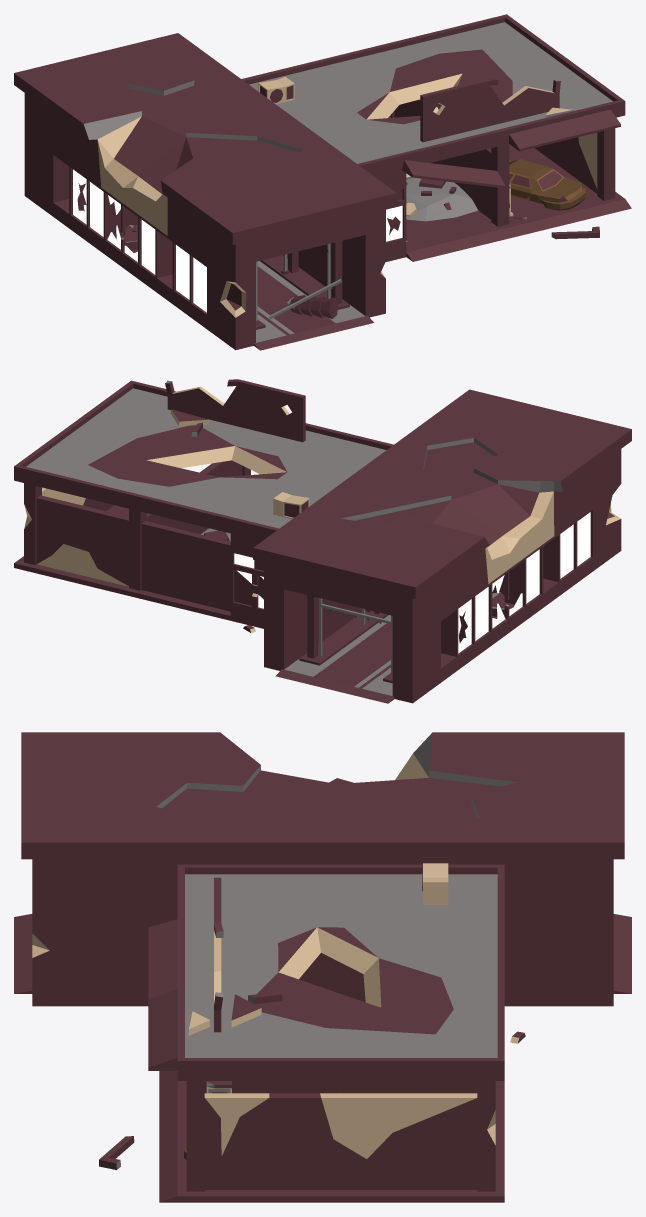
Rendered from apocalypse-building-carwash-apocalypse.glb.
The picture shows the model from 3 angles, top to bottom: view 1: azimuth 30°, elevation 25°; view 2: azimuth 150°, elevation 25°; view 3: azimuth 270°, elevation 25°; orthographic projection. The views are drawn at different scales.
Parts seen in each view (by area): view 1: building-carwash-apocalypse; view 2: building-carwash-apocalypse; view 3: building-carwash-apocalypse.
Boxes of the visible parts, left/top/right/bottom form: building-carwash-apocalypse: left=14, top=14, right=631, bottom=350; building-carwash-apocalypse: left=14, top=379, right=631, bottom=703; building-carwash-apocalypse: left=14, top=732, right=631, bottom=1202.
Size of the model in its own units: 19.7 by 6 by 17.
